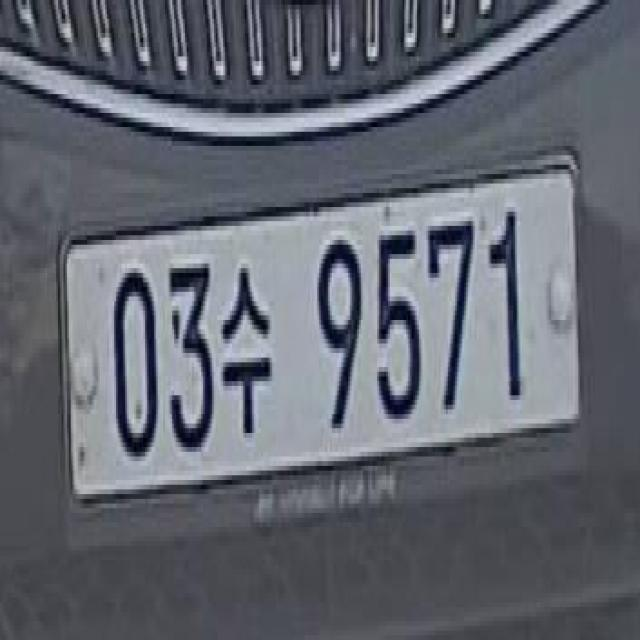illegal_plate: (63, 153, 587, 539)
